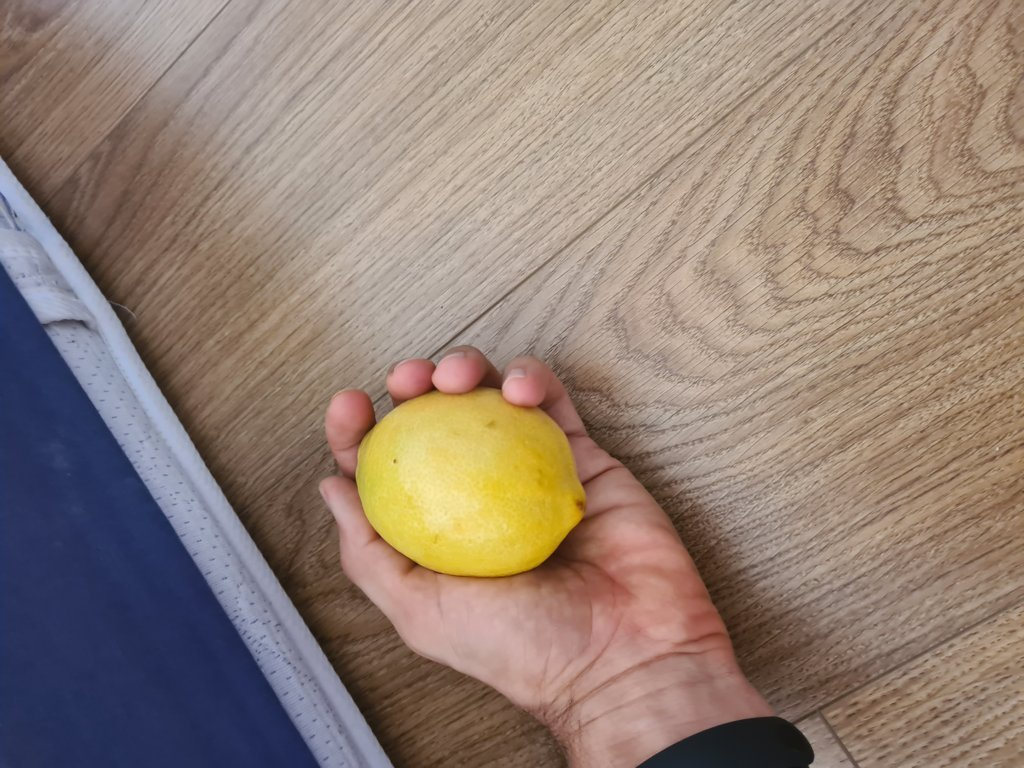lemon: (353, 381, 590, 574)
